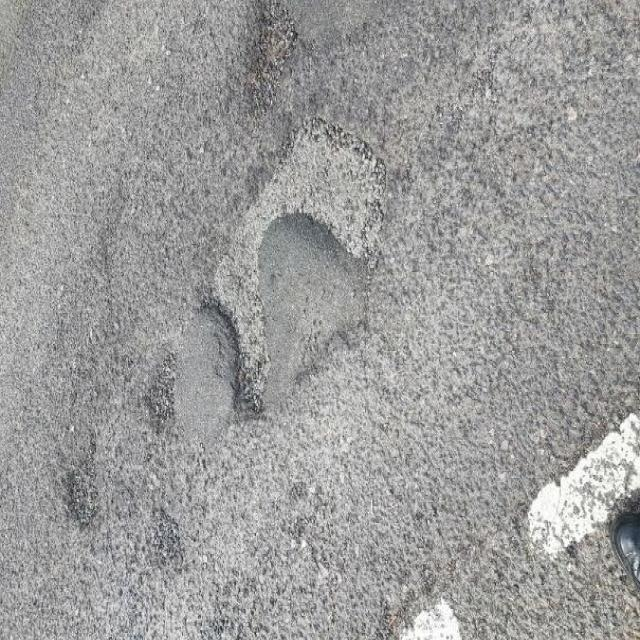pothole: (192, 107, 418, 419)
